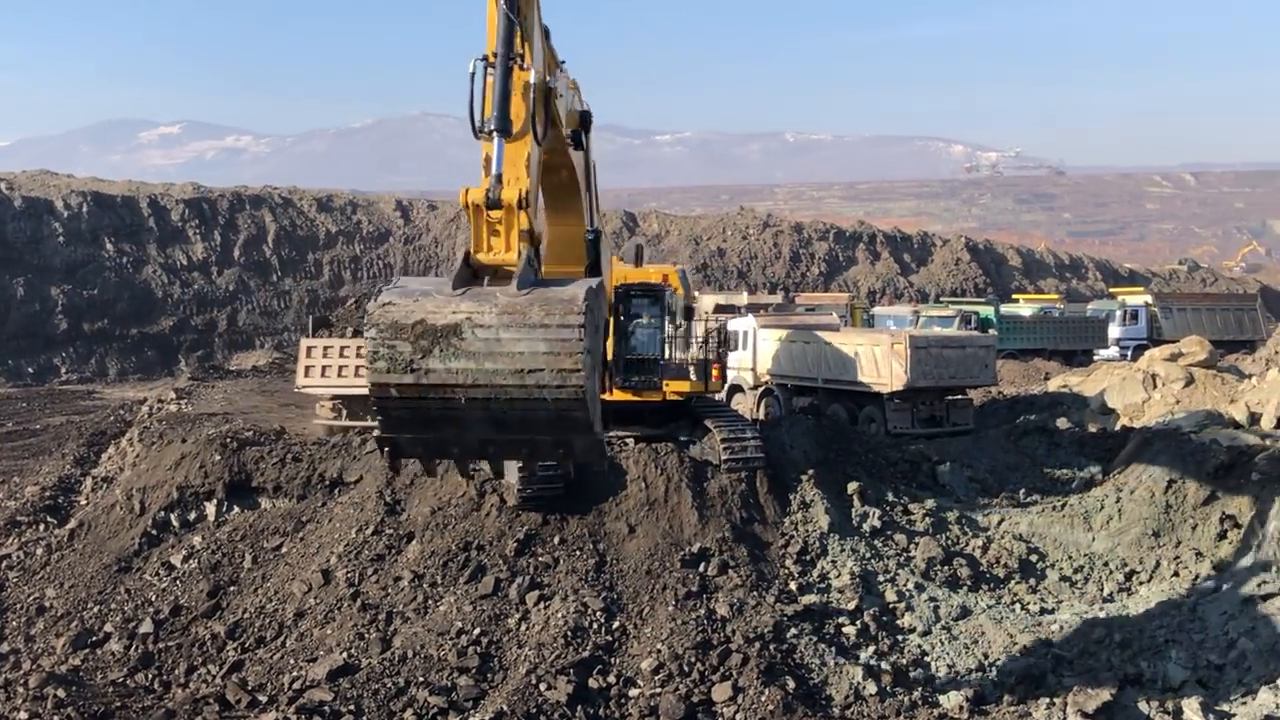empty: (352, 251, 612, 492)
